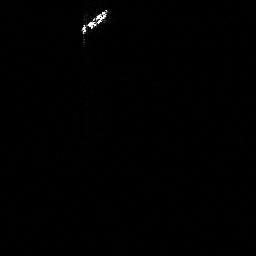ship: (76, 7, 111, 37)
